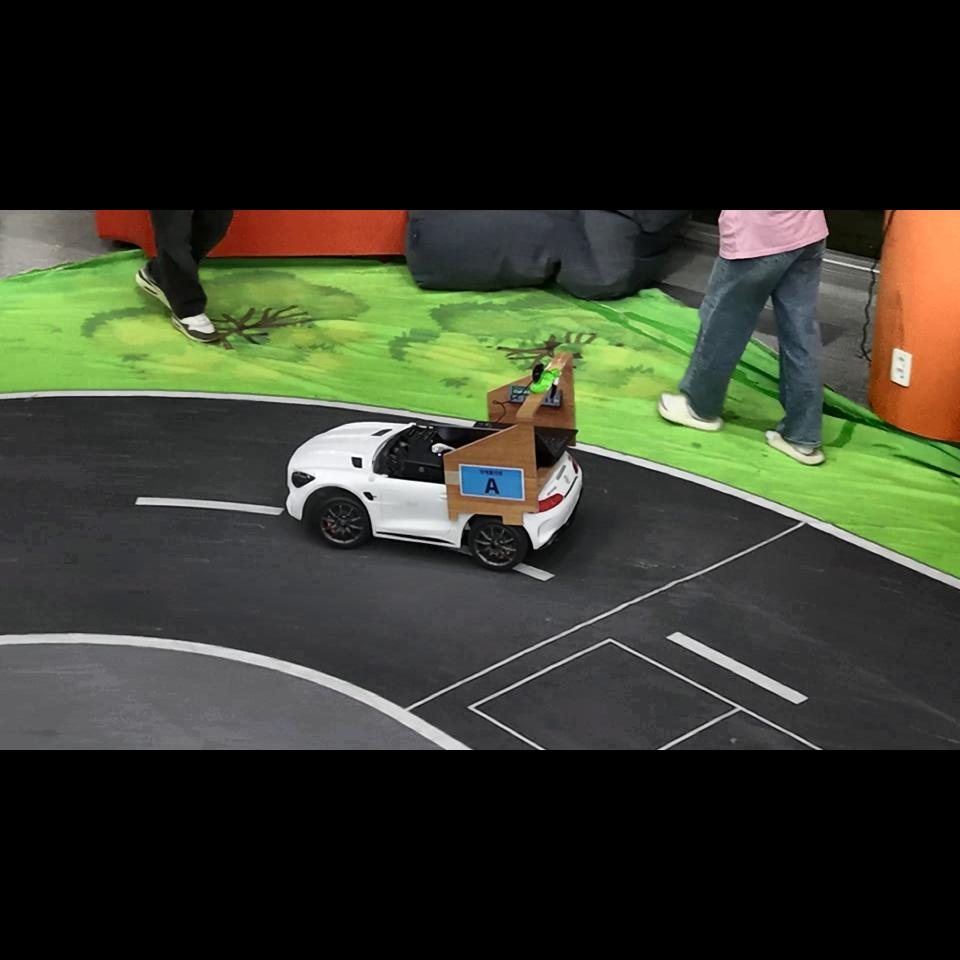broken_line: (666, 631, 809, 704), (135, 497, 285, 515), (512, 563, 555, 581), (448, 545, 473, 556)
